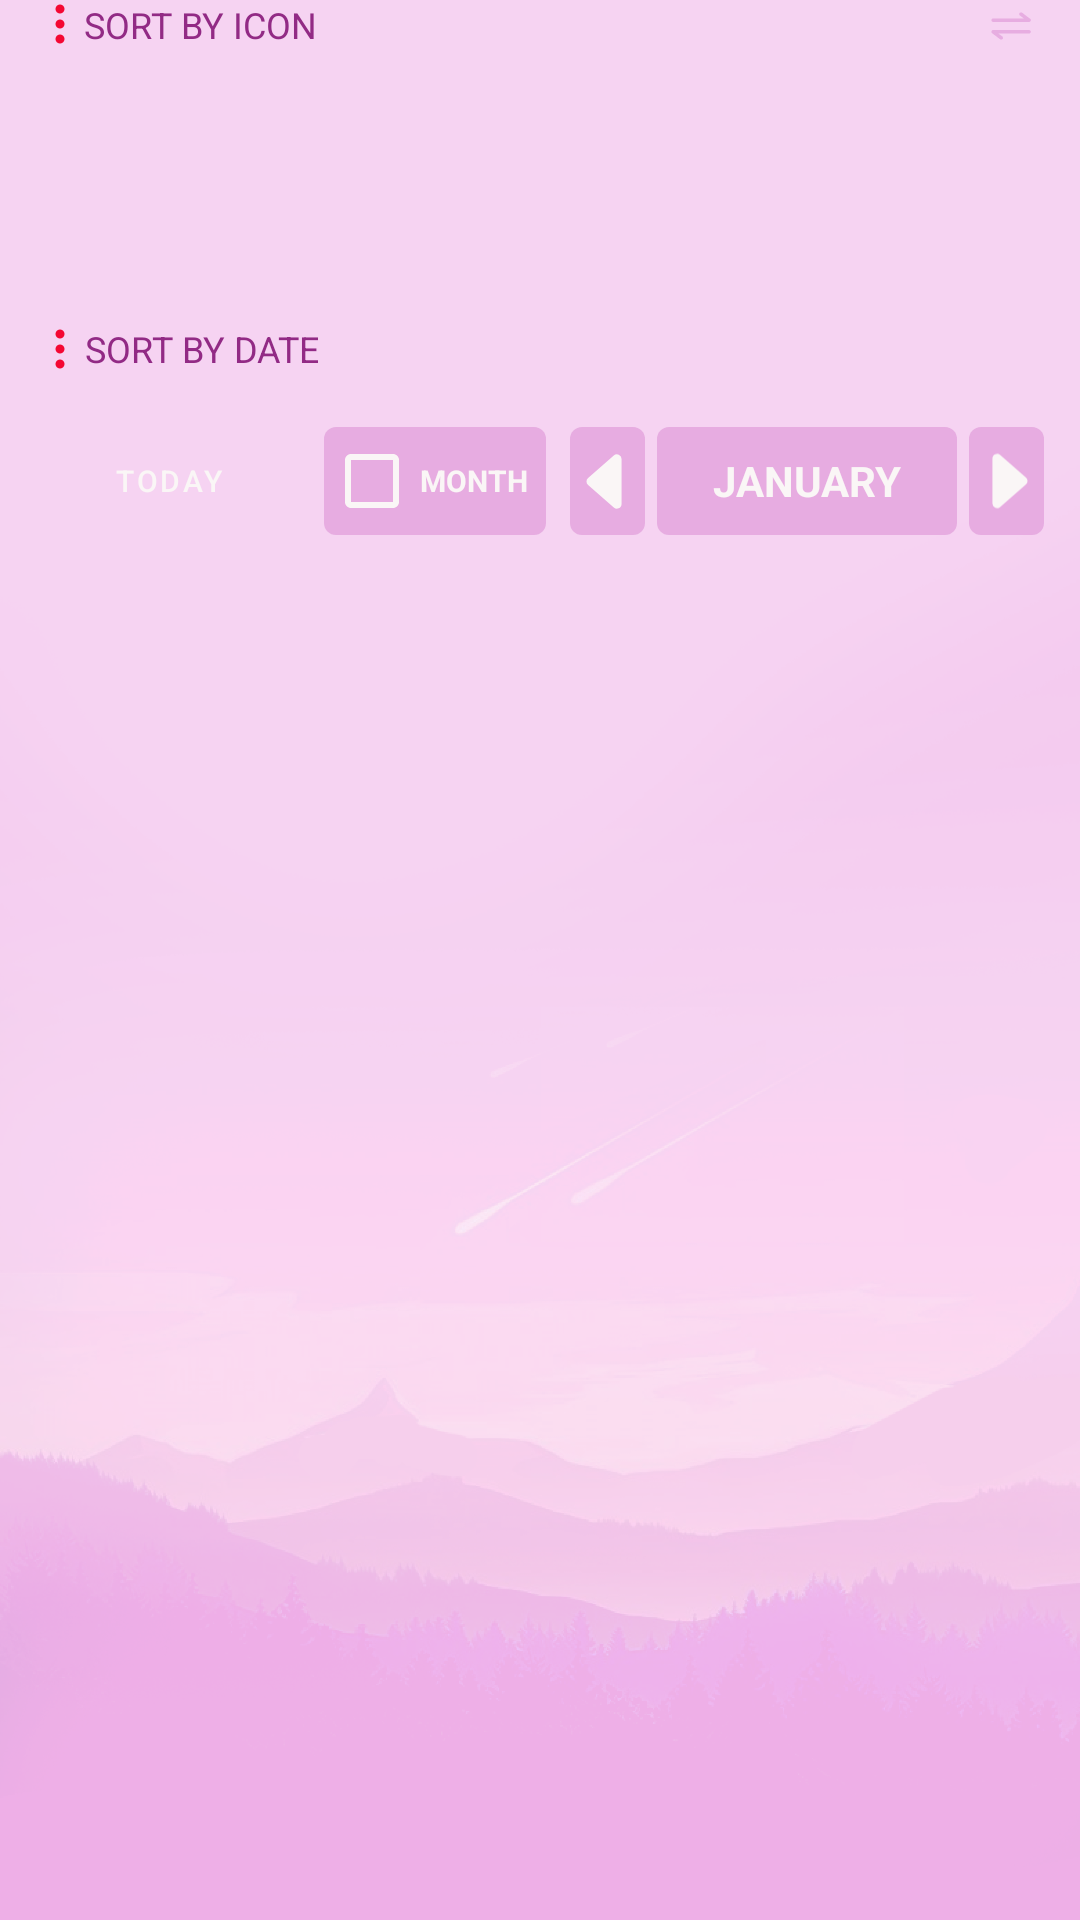

Named icons in this screenshot (1080×1920) and their centers, point (x, y):
three dots vertical: point (60, 24), point (60, 349)
